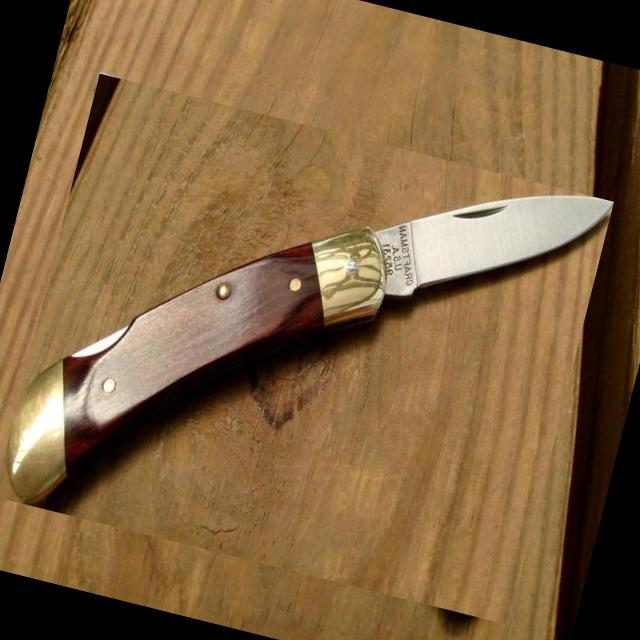Knife: (8, 196, 613, 507)
